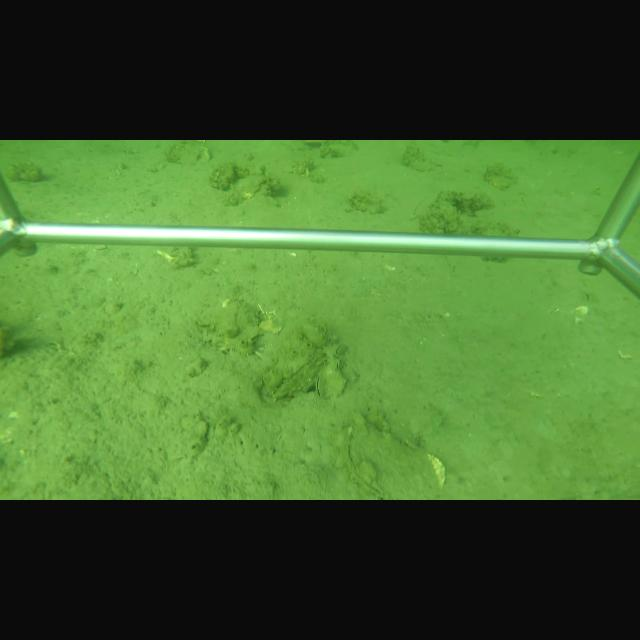Oyster-Closed: (341, 417, 443, 499), (261, 347, 327, 402), (313, 375, 327, 399), (331, 343, 349, 357), (331, 358, 342, 371)
